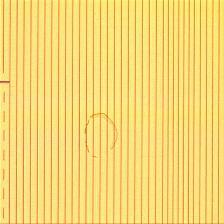PIQ PARTICLE: (81, 113, 121, 162)
